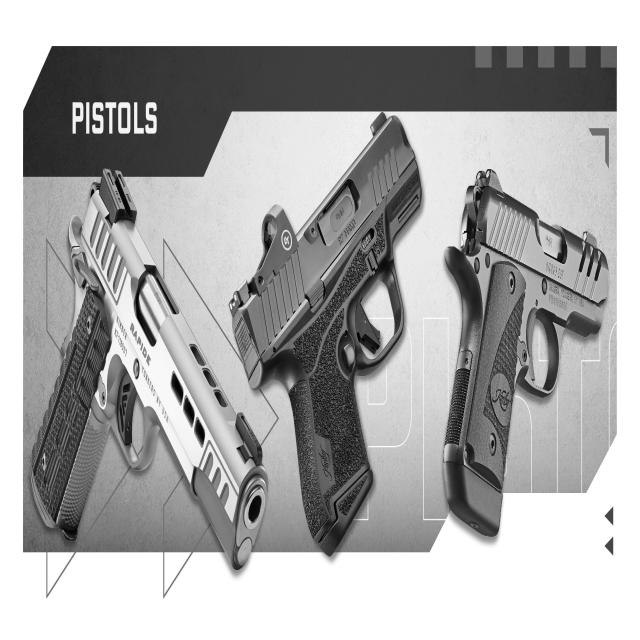Hand-Gun: (72, 166, 273, 632), (434, 150, 619, 570), (256, 106, 416, 545)
